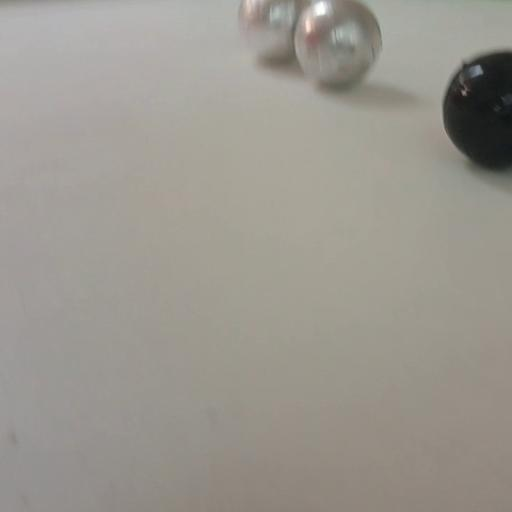alive: (293, 0, 382, 88), (240, 1, 309, 61)
dead: (439, 45, 512, 172)
